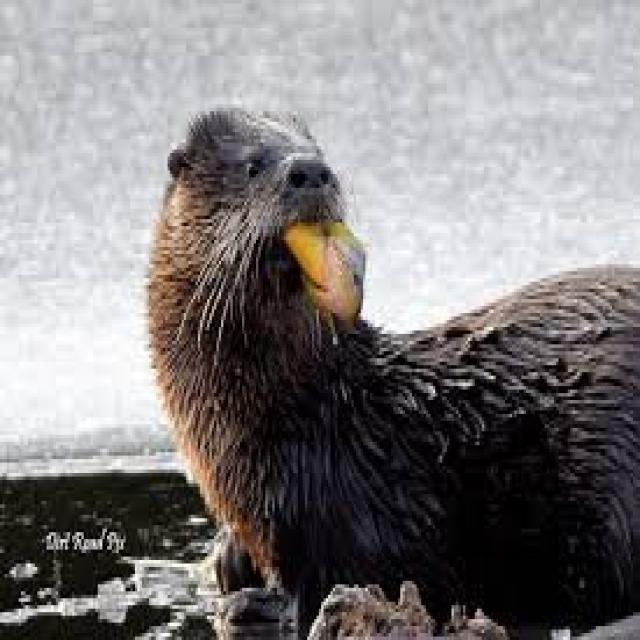Otter: (140, 91, 640, 621)
